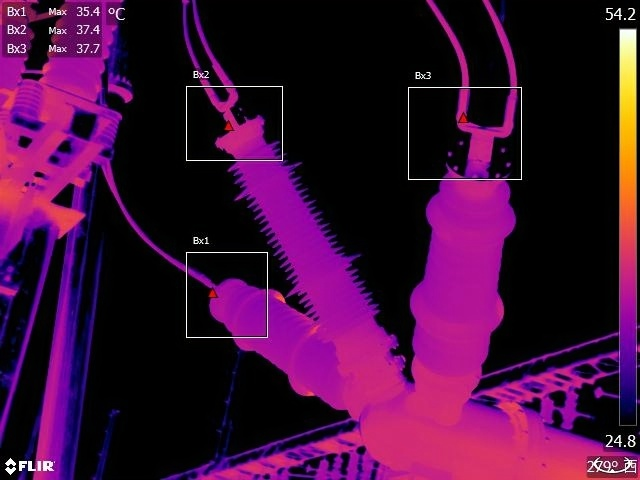tube: (207, 96, 386, 345), (404, 140, 535, 377), (203, 269, 346, 405)
